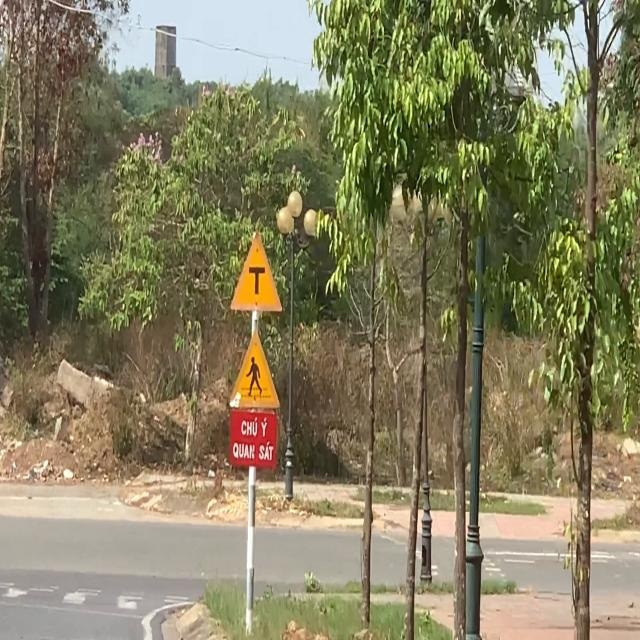bien_nguy_hiem: (226, 222, 286, 318), (225, 322, 282, 412)
